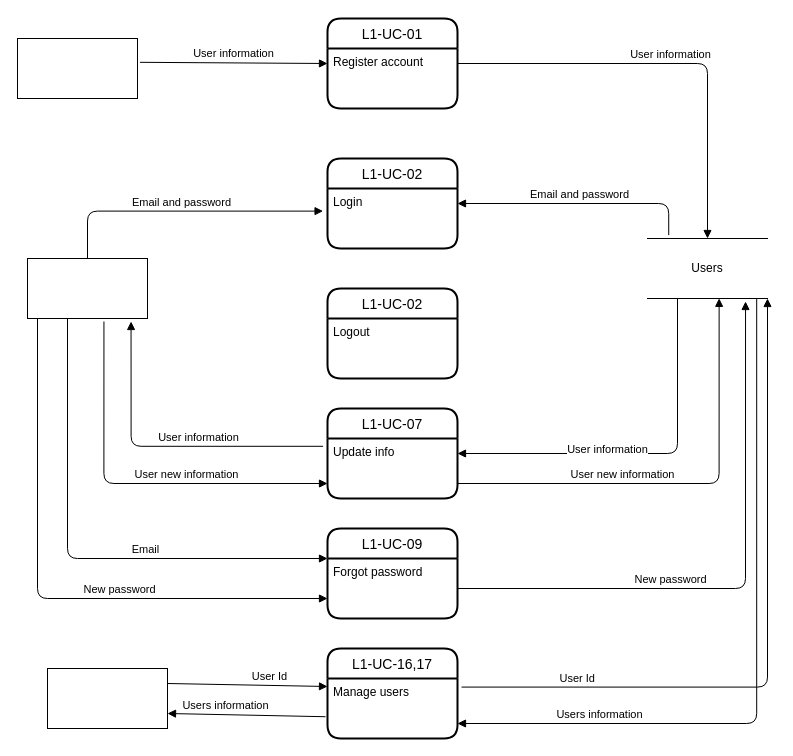
This 793x756 diagram has some shape labels left out. The centre of each missing label's shape, as x and y in pixels:
Admin: (x=107, y=698)
Registered user: (x=87, y=288)
Visitor: (x=77, y=68)
